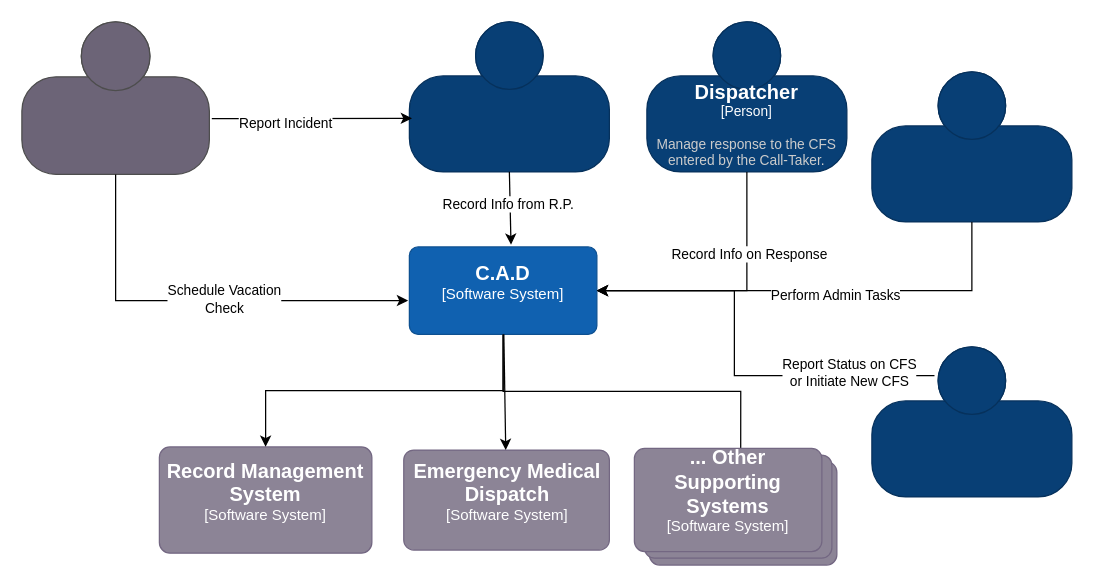
The diagram is 1094 pixels wide and 588 high, and some of its shapes have lost their labels. The shapes that lost their labels are listed below. From the top down, each one's box as (x1, y1, x2, y2) in pixels, then its label:
(21, 21, 209, 174): Reporting Party [Person] An individual reporting an incident.
(408, 21, 609, 172): Call Taker [Person] Answers calls for service from the agency’s customers.
(871, 71, 1072, 222): Utility [Person] Support Call Takers & Dispatchers doing admin tasks.
(871, 346, 1072, 497): Responders [Person] Individuals in the fields responding to CFS.
